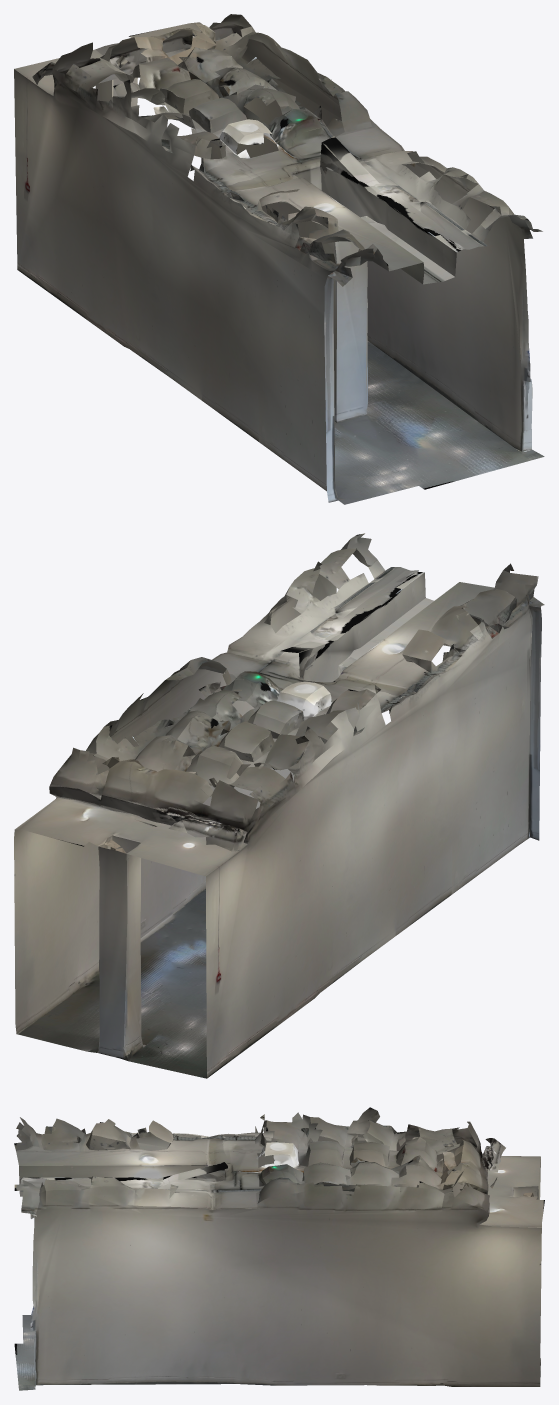
File: Atrium_entrance_01-IM.fbx
The picture shows the model from 3 angles, top to bottom: view 1: azimuth 30°, elevation 25°; view 2: azimuth 150°, elevation 25°; view 3: azimuth 270°, elevation 25°; orthographic projection. The views are drawn at different scales.
Parts seen in each view (by area): view 1: Atrium_entrance_01-IM; view 2: Atrium_entrance_01-IM; view 3: Atrium_entrance_01-IM.
Boxes of the visible parts, x1=… form: Atrium_entrance_01-IM: x1=14, y1=14, x2=544, y2=504; Atrium_entrance_01-IM: x1=14, y1=533, x2=544, y2=1078; Atrium_entrance_01-IM: x1=14, y1=1107, x2=544, y2=1390.
Size of the model in its own units: 328 by 398 by 899.
Materials: 1 (1 with a texture image).
